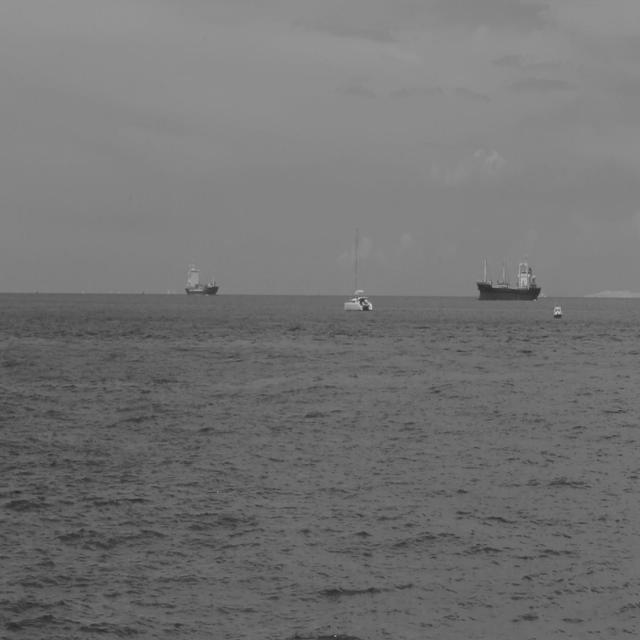ship: (475, 250, 542, 302), (342, 224, 374, 313), (184, 258, 219, 298), (552, 298, 563, 320)
